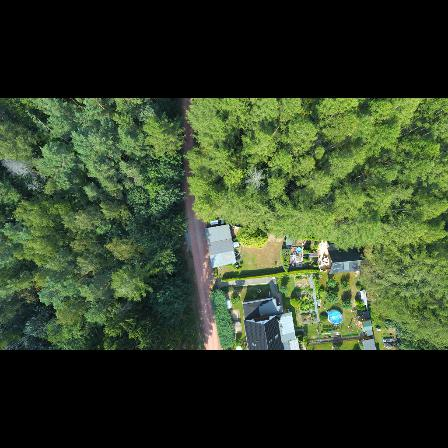Dead: (1, 154, 33, 179), (242, 165, 270, 191)
